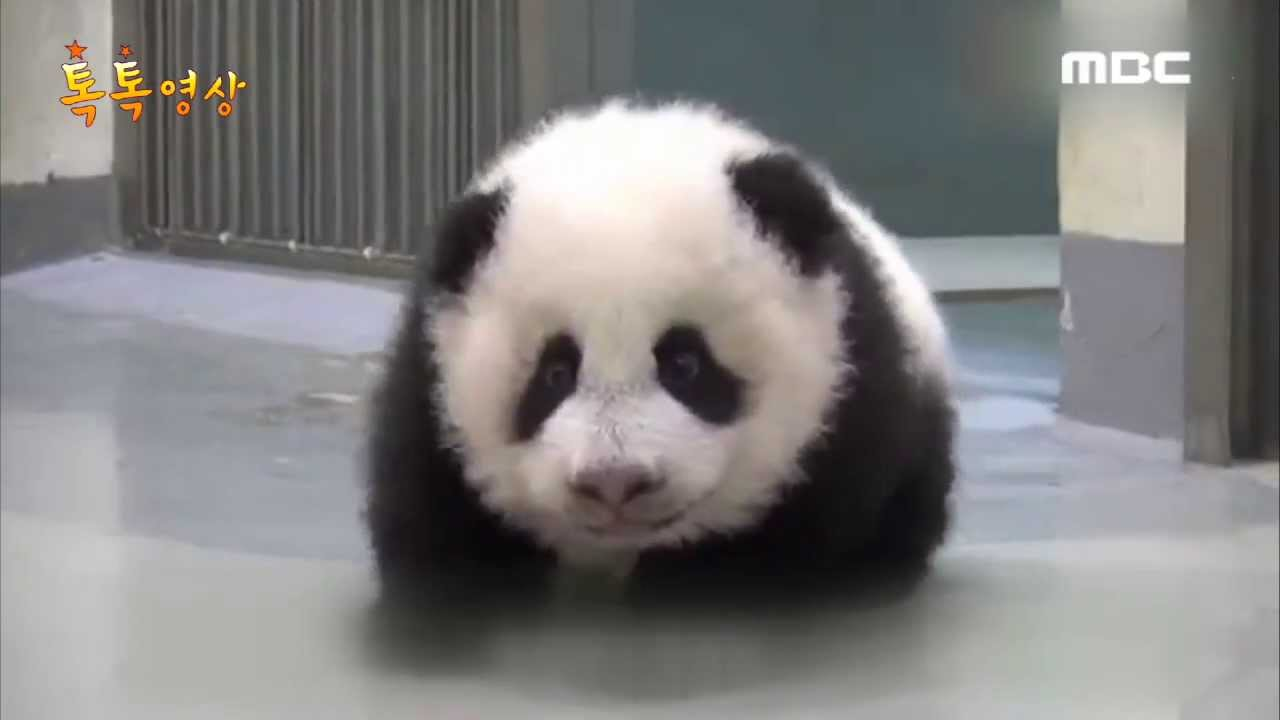panda: (314, 61, 1017, 658)
